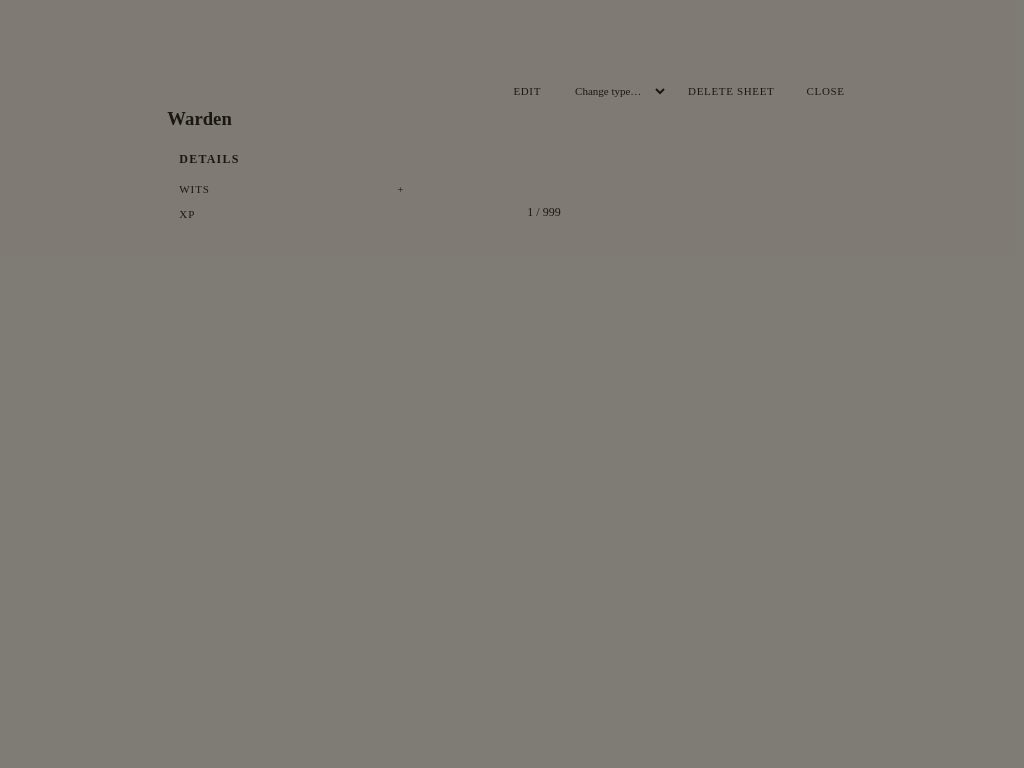
Scenario: shows the SheetError message on a rejected advance
Click the button named "Advance Wits": (401, 189) [385,177,416,201]
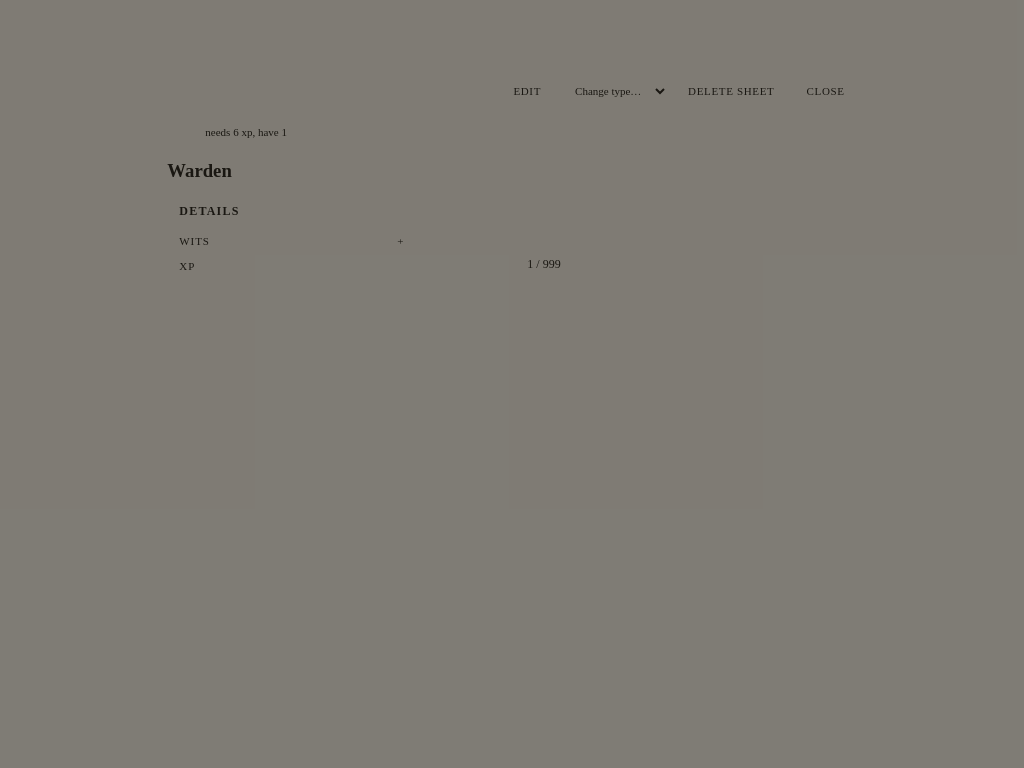
Now the text "needs 6 xp, have 1" is shown, box [205,126,287,138]
